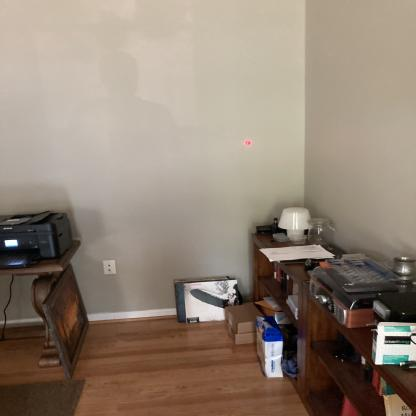target: (243, 140, 253, 146)
